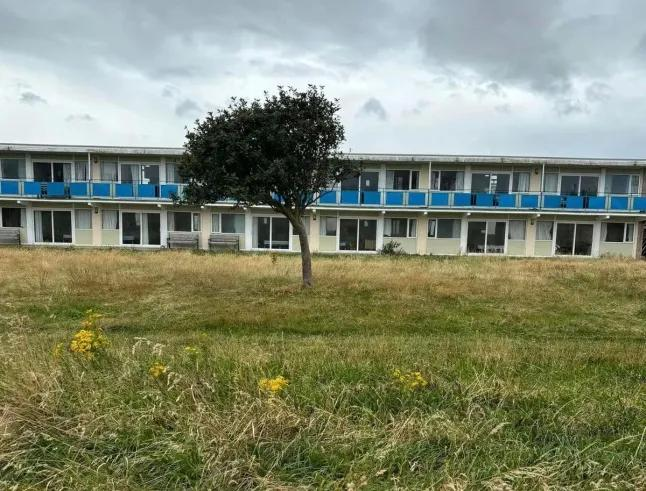overgrown grass: (0, 319, 645, 490), (314, 257, 645, 303), (18, 251, 299, 293)
